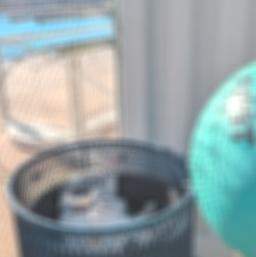algae: (191, 44, 256, 257)
